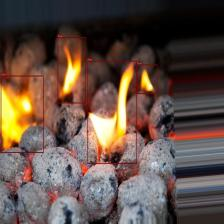fire: (87, 60, 137, 164), (0, 76, 44, 152), (58, 37, 86, 103), (137, 64, 157, 94)
